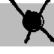not correct: (7, 0, 54, 47)
